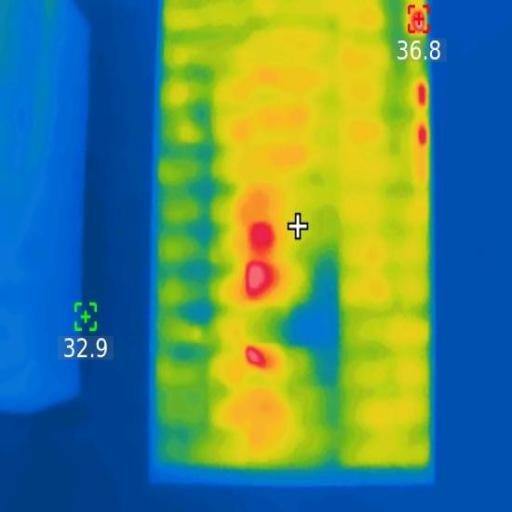hotspot: (247, 262, 279, 300), (250, 220, 278, 258), (408, 6, 432, 39), (247, 341, 268, 376), (416, 82, 430, 110), (414, 125, 428, 152)
